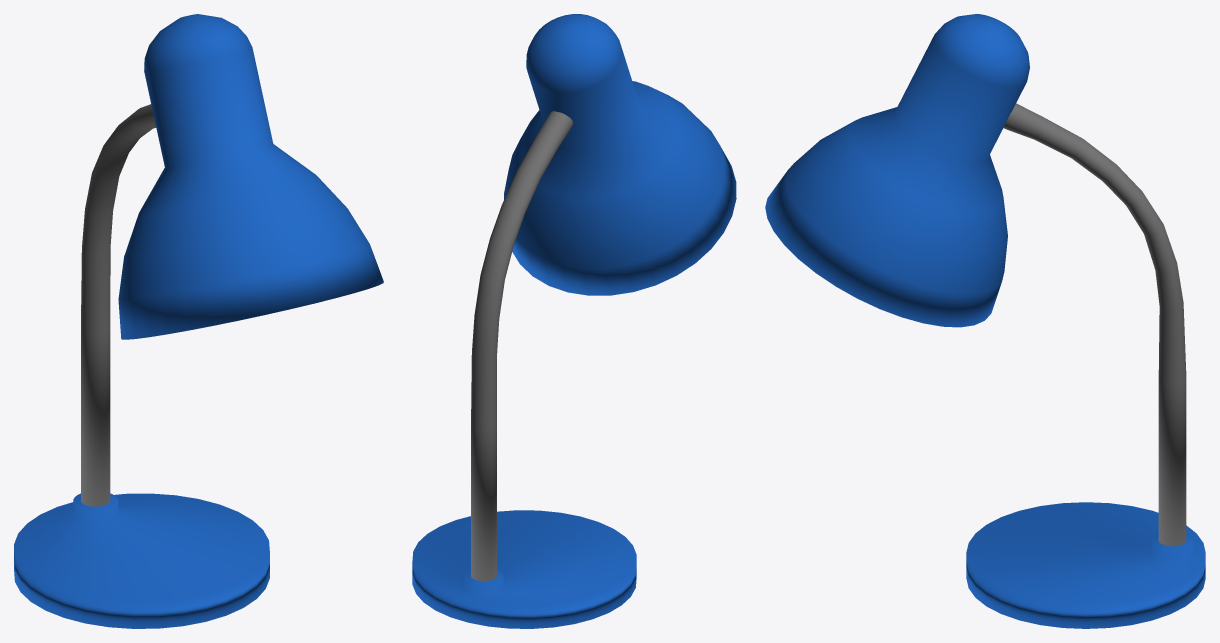
The model's file is 10_DESKLAMP.fbx.
3 views of the same model, side by side, from view 1: azimuth 30°, elevation 25°; view 2: azimuth 150°, elevation 25°; view 3: azimuth 270°, elevation 25° (orthographic). The views are drawn at different scales.
Parts seen in each view (by area): view 1: Cylinder.001; view 2: Cylinder.001; view 3: Cylinder.001.
Part boxes in pixels (box(x1,y1,x2,y2)): Cylinder.001: box(14, 14, 383, 628); Cylinder.001: box(412, 14, 736, 628); Cylinder.001: box(765, 14, 1205, 628).
Bounding box in the file's own units: 106 × 260 × 186.
